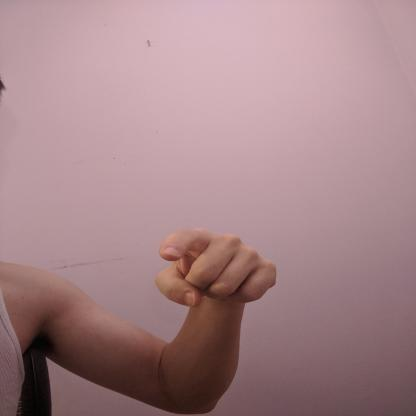Z: (152, 225, 280, 310)
